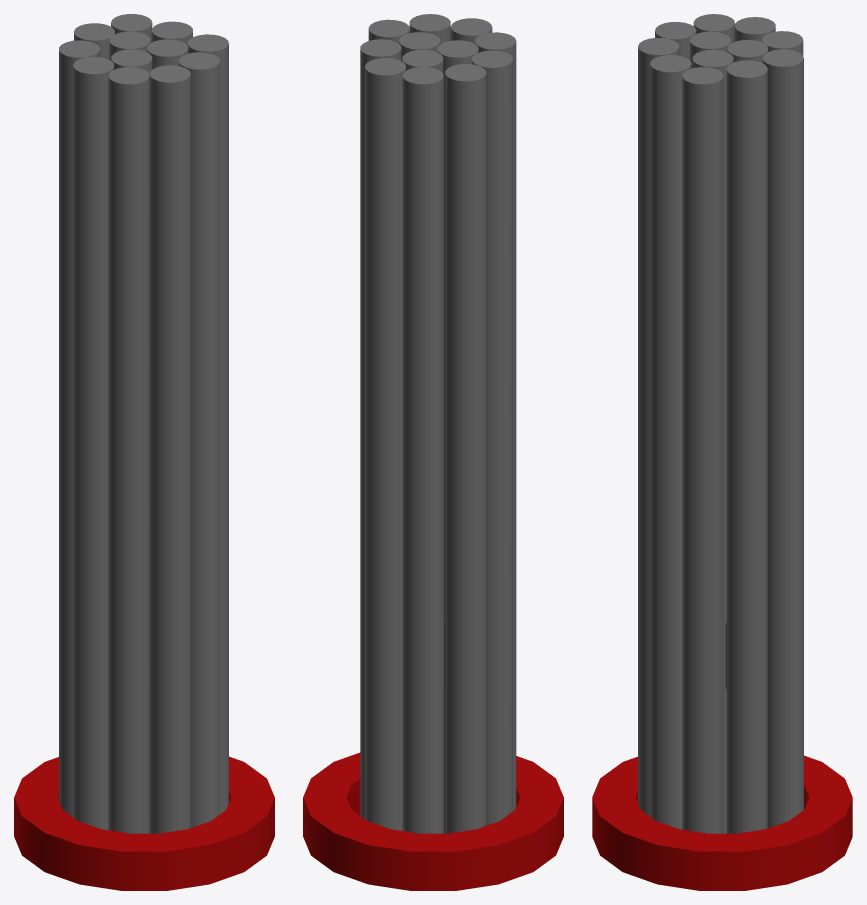
The model's file is FactoryWiresB.S..FBX.
The picture shows the model from 3 angles, left to right: view 1: azimuth 30°, elevation 25°; view 2: azimuth 150°, elevation 25°; view 3: azimuth 270°, elevation 25°; orthographic projection.
Visible parts, largest first — view 1: Cylinder012; view 2: Cylinder012; view 3: Cylinder012.
Part boxes in pixels (x1,y1,x2,y2): Cylinder012: (14, 14, 274, 890); Cylinder012: (303, 14, 563, 890); Cylinder012: (592, 14, 852, 890).
Size of the model in its own units: 59.09 by 200 by 60.
